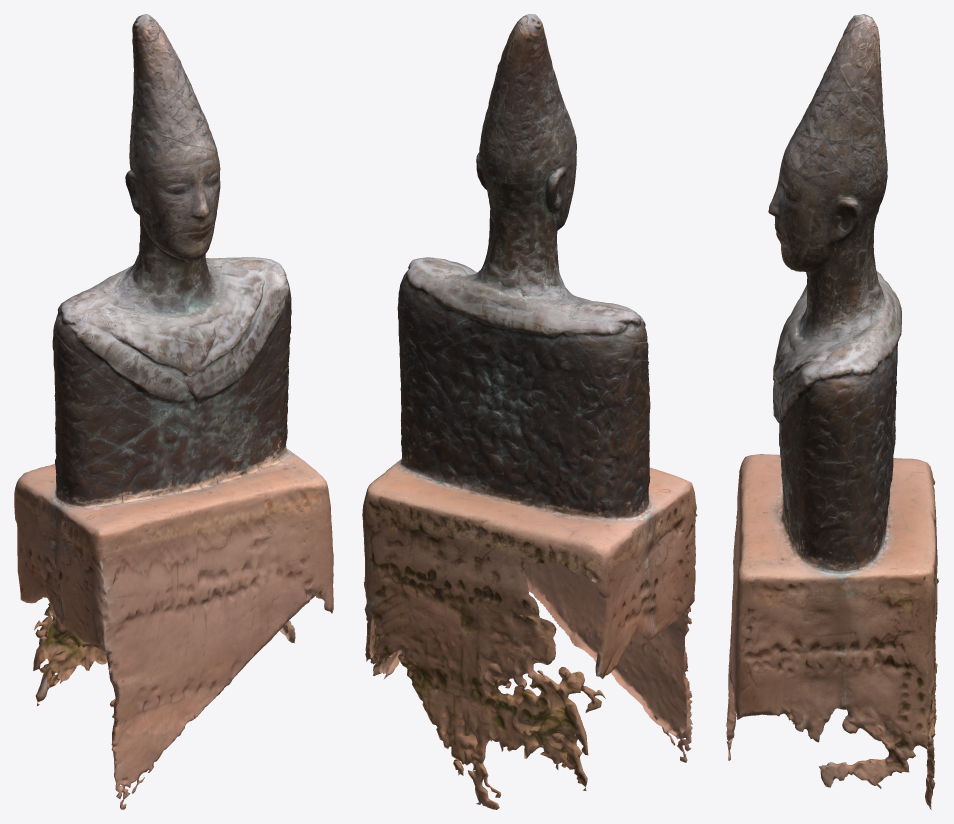
3 renders of one model, left to right at view 1: azimuth 30°, elevation 25°; view 2: azimuth 150°, elevation 25°; view 3: azimuth 270°, elevation 25°, orthographic. The views are drawn at different scales.
Parts seen in each view (by area): view 1: auguststrassepiece03.2k.50k; view 2: auguststrassepiece03.2k.50k; view 3: auguststrassepiece03.2k.50k.
Part boxes in pixels (x1,y1,x2,y2): auguststrassepiece03.2k.50k: [14, 14, 333, 809]; auguststrassepiece03.2k.50k: [362, 14, 697, 809]; auguststrassepiece03.2k.50k: [726, 14, 938, 809].
Size of the model in its own units: 1.1 by 3.21 by 0.7854.
1 material, 1 textured.
